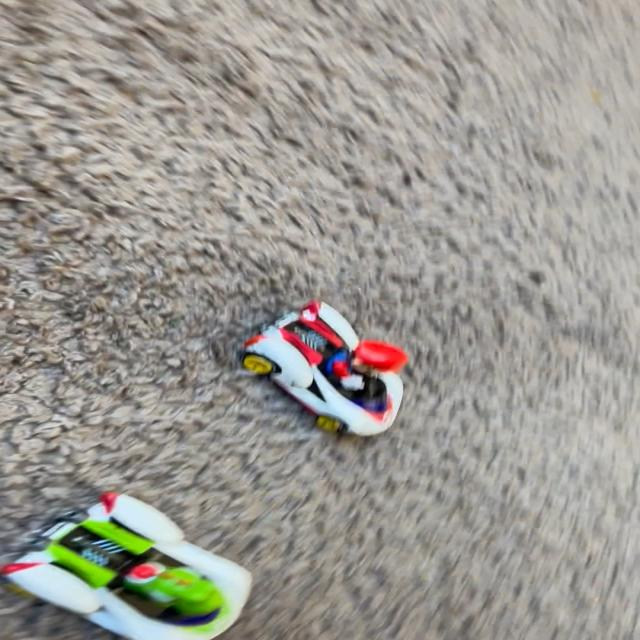mario: (232, 291, 429, 452)
yoshi: (0, 468, 275, 640)
